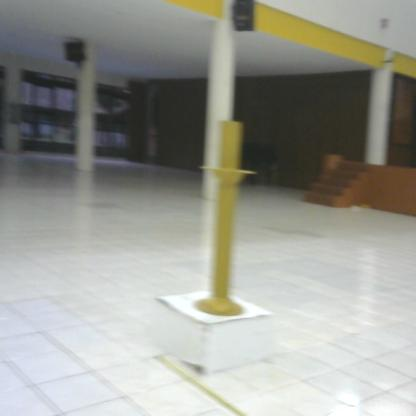pole: (190, 115, 260, 320)
